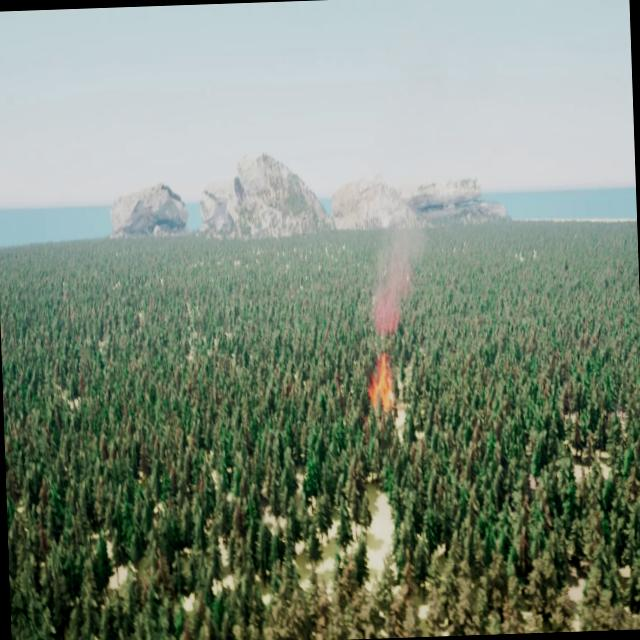fire: (366, 352, 396, 409)
smoke: (367, 214, 424, 334)
